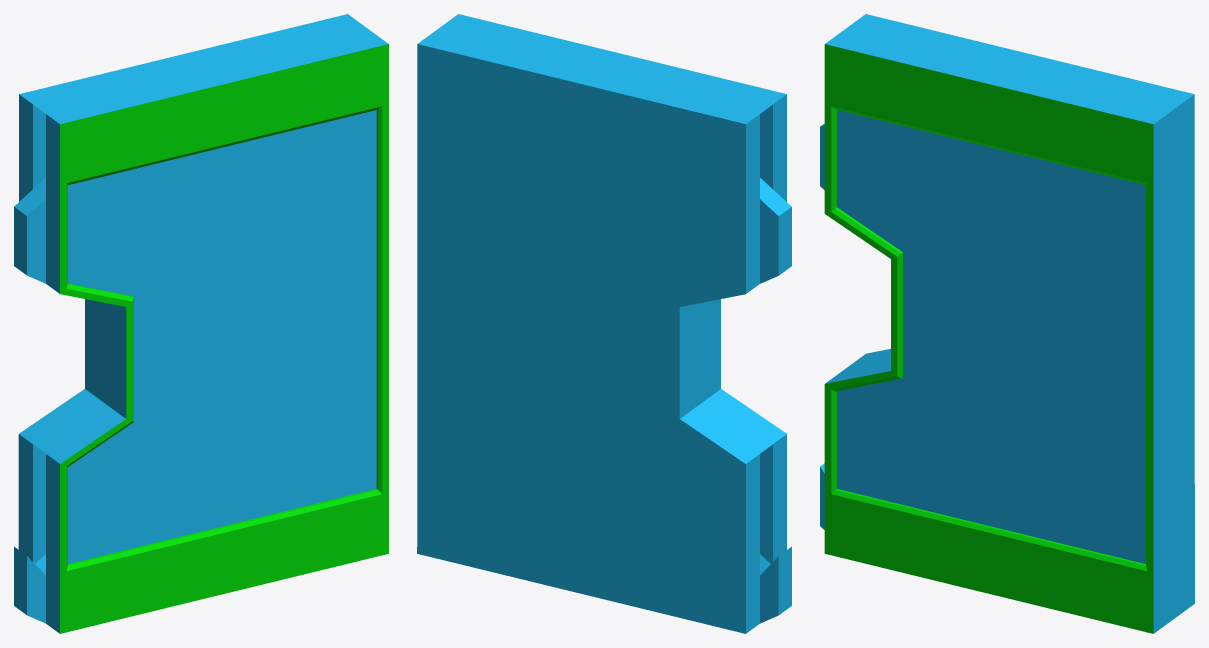
File: door.fbx
The picture shows the model from 3 angles, left to right: view 1: azimuth 30°, elevation 25°; view 2: azimuth 150°, elevation 25°; view 3: azimuth 330°, elevation 25°; orthographic projection.
Visible parts, largest first — view 1: door; view 2: door; view 3: door.
Boxes of the visible parts, x1,y1,x2,y2 form: door: (14, 14, 388, 633); door: (417, 14, 791, 633); door: (820, 14, 1194, 633).
Size of the model in its own units: 200 by 280 by 41.11.
